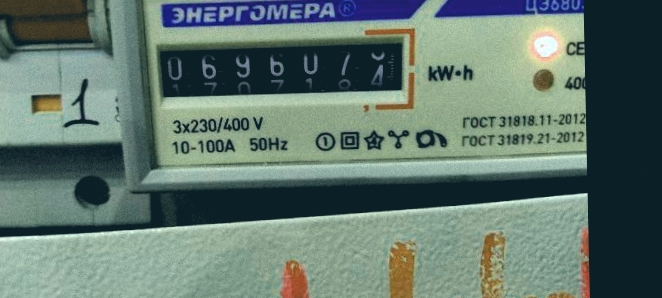0: (300, 46, 319, 76), (165, 53, 183, 81)
4: (367, 59, 385, 89)
6: (267, 47, 285, 77), (199, 51, 217, 79)
7: (334, 46, 354, 77)
9: (232, 50, 251, 78)
screen: (143, 23, 421, 113)
